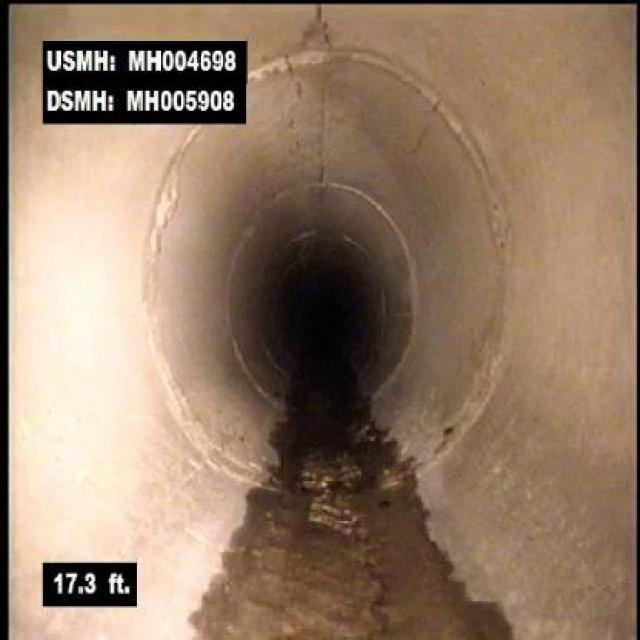Crack: (348, 500, 397, 638)
Joint offset: (252, 42, 357, 86)
